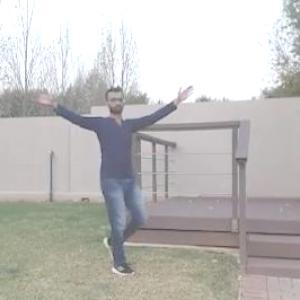takeoff: (24, 78, 194, 284)
